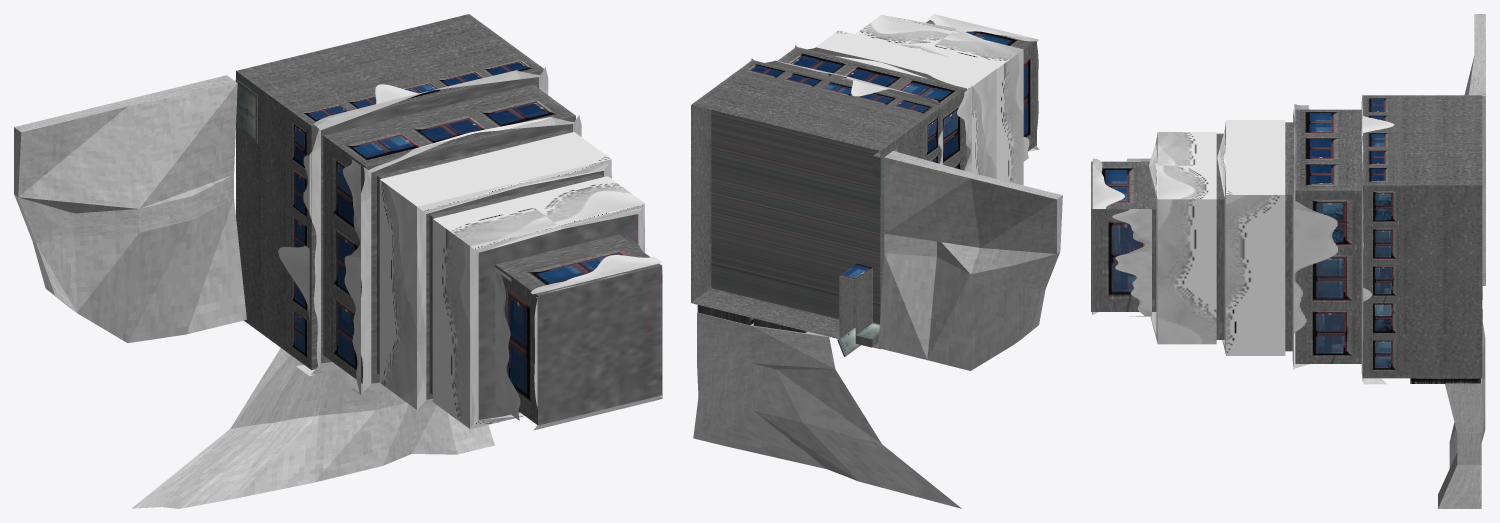
File: PonchoCoBuildingExt_wtf.obj
3 views of the same model, side by side, from view 1: azimuth 30°, elevation 25°; view 2: azimuth 150°, elevation 25°; view 3: azimuth 270°, elevation 25° (orthographic). The views are drawn at different scales.
Visible parts, largest first — view 1: group3, group20, group4, group17, group10, group16, group11, group12, group21, group14, group18, group2 (+3 smaller); view 2: group12, group3, group20, group21, group16, group17, group10, group11, group4, group15, group2, group18 (+3 smaller); view 3: group17, group10, group16, group21, group12, group11, group4, group20, group15, group18, group3, group9 (+2 smaller).
Boxes of the visible parts, bbox=[...] form: group3: bbox=[14, 75, 246, 342]; group20: bbox=[132, 348, 494, 508]; group4: bbox=[495, 234, 661, 425]; group17: bbox=[379, 132, 611, 409]; group10: bbox=[323, 84, 575, 383]; group16: bbox=[432, 176, 644, 429]; group11: bbox=[286, 50, 543, 370]; group12: bbox=[261, 32, 518, 351]; group21: bbox=[236, 14, 493, 332]; group14: bbox=[429, 173, 638, 419]; group18: bbox=[343, 115, 581, 394]; group2: bbox=[278, 67, 548, 376]; group12: bbox=[711, 75, 921, 324]; group3: bbox=[878, 151, 1062, 370]; group20: bbox=[693, 312, 961, 508]; group21: bbox=[691, 90, 900, 349]; group16: bbox=[855, 15, 1023, 185]; group17: bbox=[815, 30, 996, 178]; group10: bbox=[777, 47, 966, 170]; group11: bbox=[732, 60, 941, 163]; group4: bbox=[926, 20, 1036, 151]; group15: bbox=[927, 14, 1038, 161]; group2: bbox=[751, 58, 942, 164]; group18: bbox=[795, 45, 971, 172]; group17: bbox=[1217, 120, 1285, 355]; group10: bbox=[1295, 109, 1362, 363]; group16: bbox=[1148, 132, 1216, 344]; group21: bbox=[1442, 95, 1482, 378]; group12: bbox=[1402, 95, 1442, 378]; group11: bbox=[1362, 95, 1402, 378]; group4: bbox=[1091, 161, 1156, 311]; group20: bbox=[1438, 320, 1485, 508]; group15: bbox=[1092, 158, 1151, 316]; group18: bbox=[1292, 104, 1337, 369]; group3: bbox=[1464, 14, 1485, 285]; group9: bbox=[1285, 122, 1293, 351].
Bounding box in the file's own units: 657 × 580 × 623.
